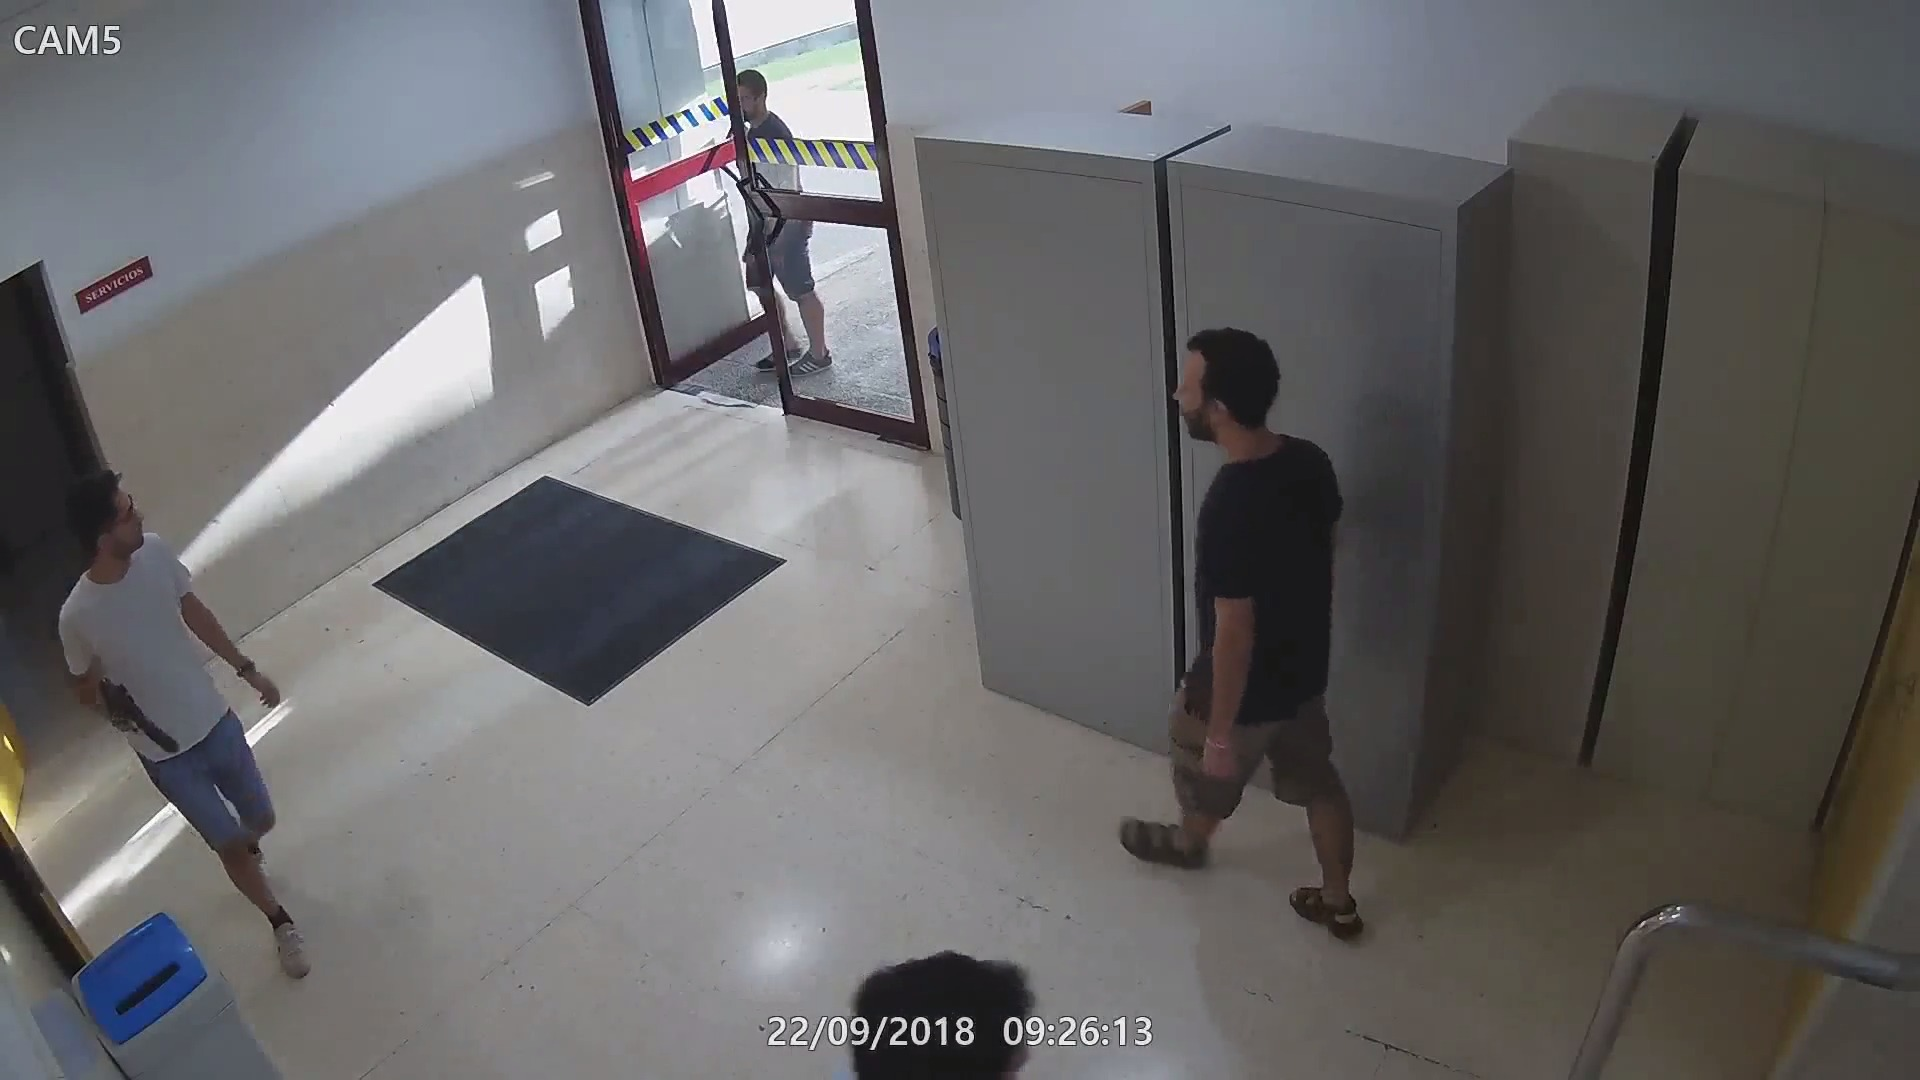rifle: (92, 663, 183, 746)
